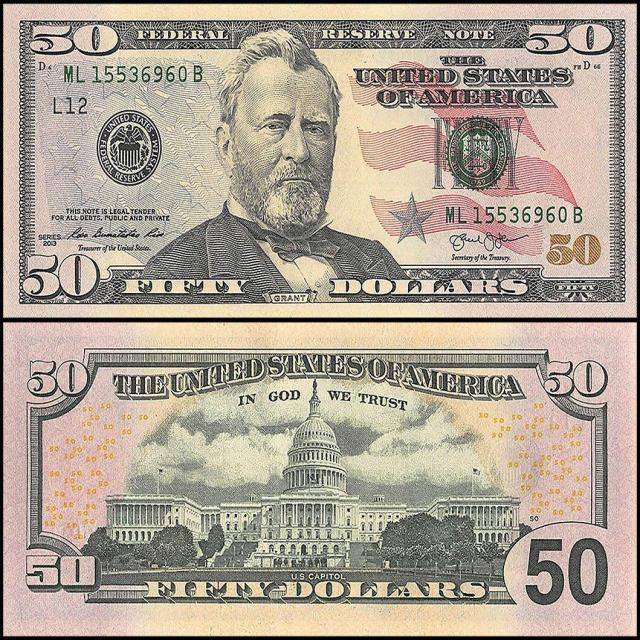50-Back: (1, 323, 640, 640)
50-Front: (2, 5, 638, 316)
